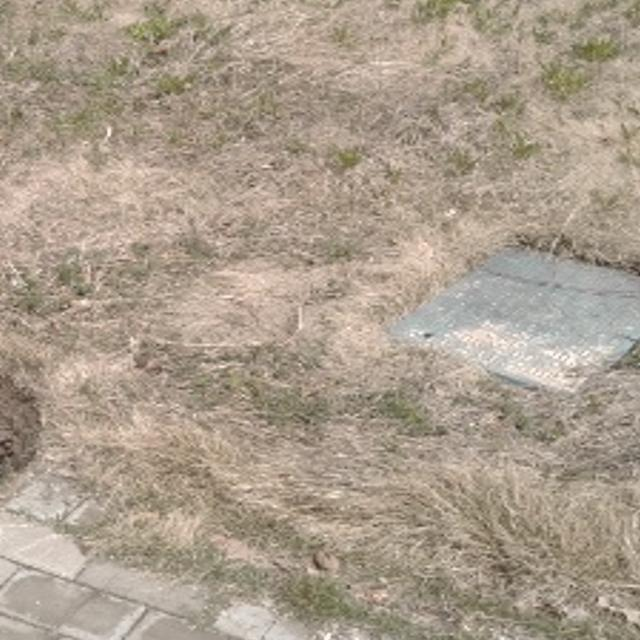lose: (0, 314, 44, 541)
